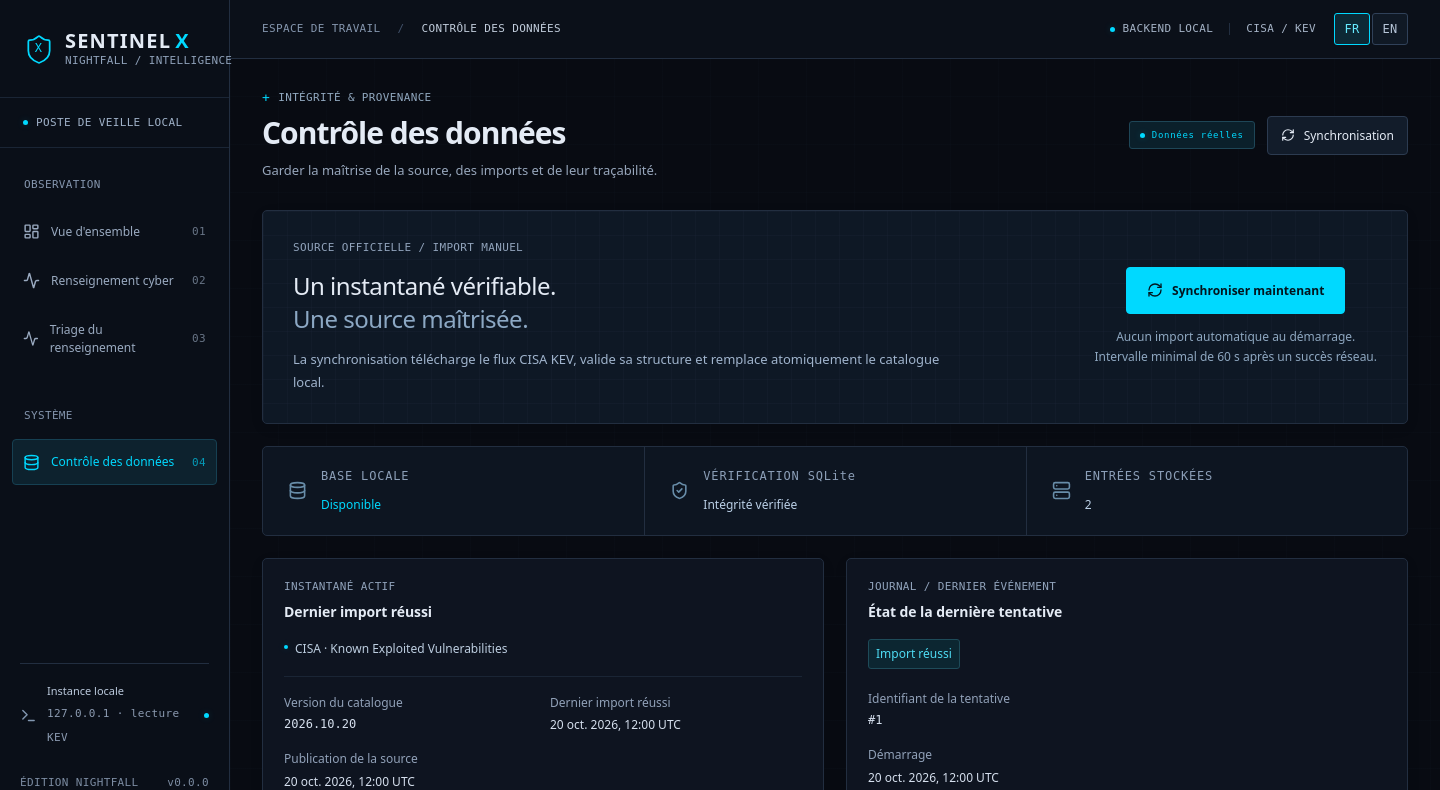
Scenario: re-localizes failed sync and stale-status feedback (reread fails: false)
Click the button "Synchroniser maintenant": (1236, 290) [1126, 267, 1345, 314]
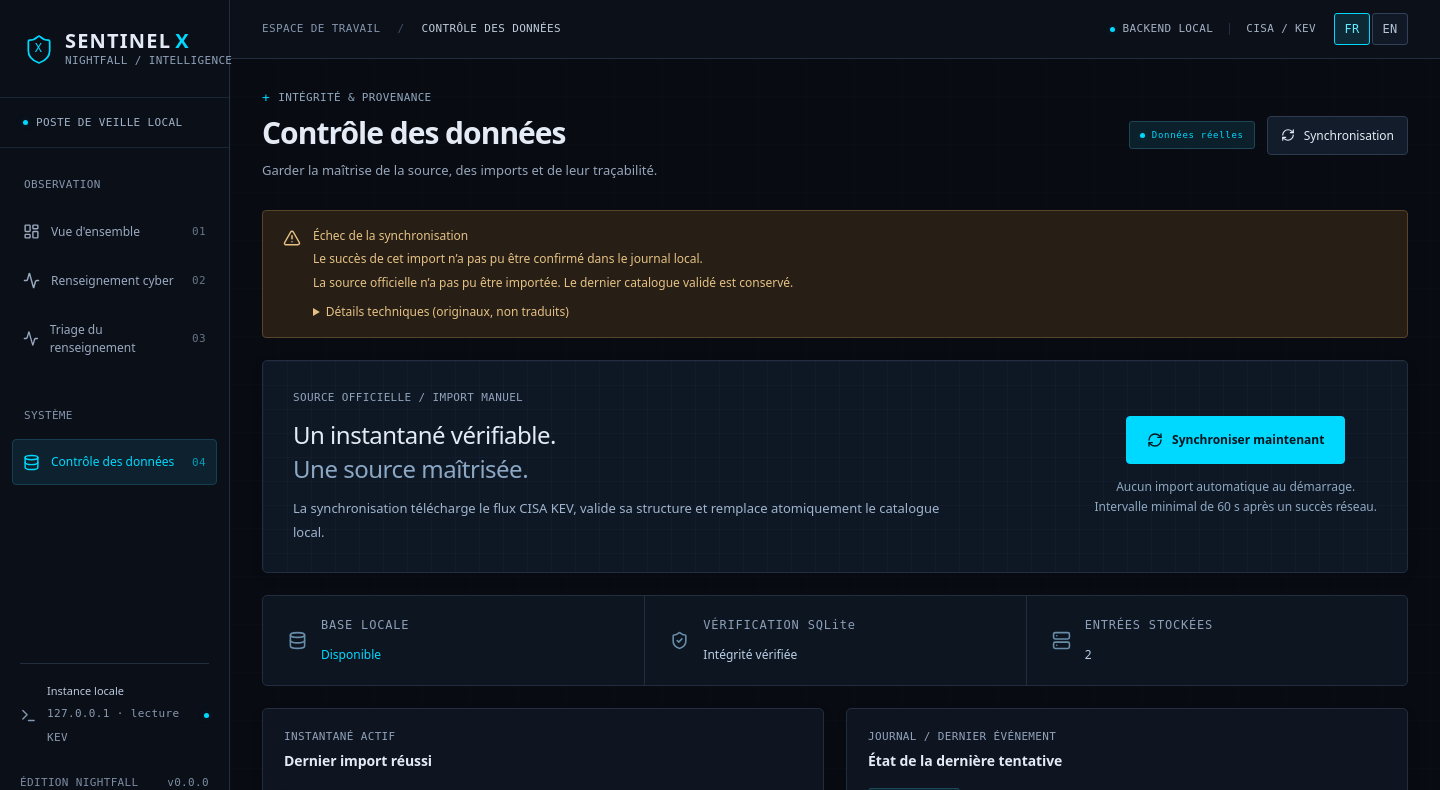
Expected: the text "Le succès de cet import n’a pas pu être confirmé dans le journal local." is shown, [313, 250, 703, 267]
Click the button with test id "language-en": (1390, 29) [1372, 13, 1408, 45]
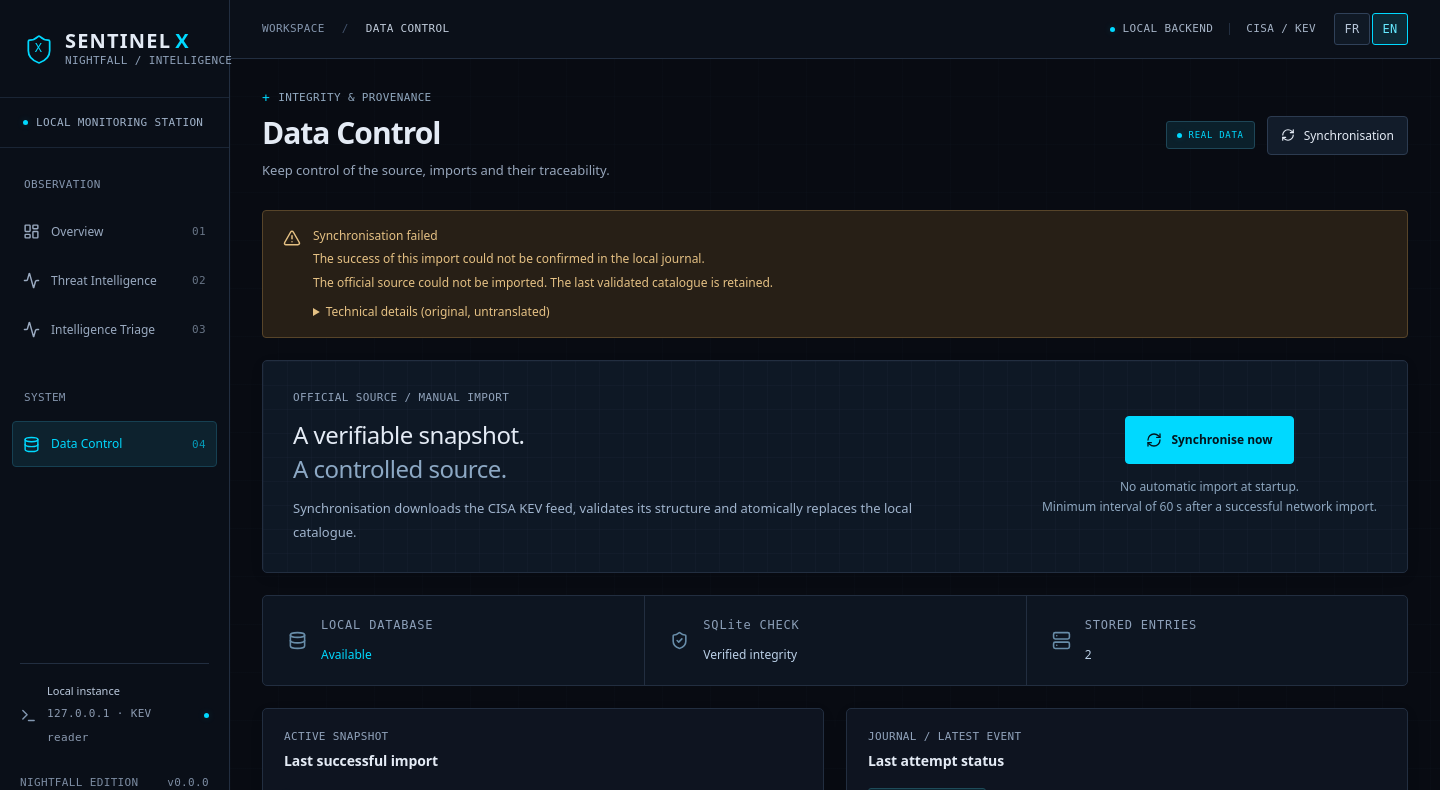
Expected: the text "The success of this import could not be confirmed in the local journal." is shown, [313, 249, 773, 269]
Expected: the text "The official source could not be imported. The last validated catalogue is retained." is shown, [313, 274, 773, 291]
